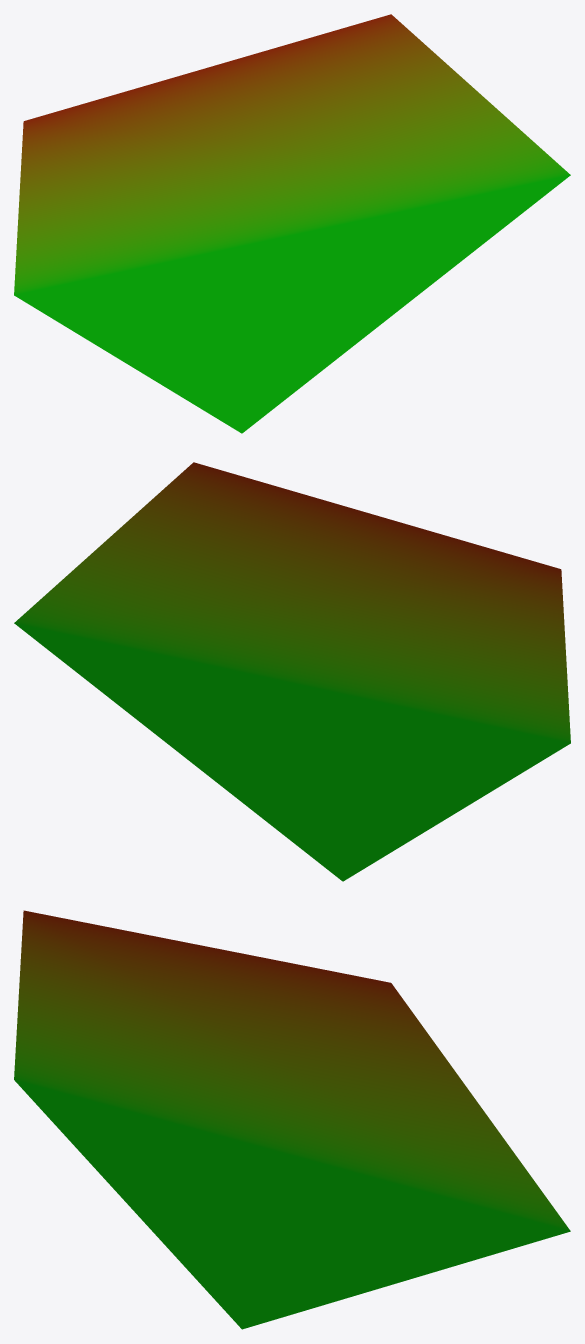
The model's file is Aloe Vera_LOD4_Var12_ve4tbbrha.fbx.
3 views of the same model, one above another, from view 1: azimuth 30°, elevation 25°; view 2: azimuth 150°, elevation 25°; view 3: azimuth 330°, elevation 25° (orthographic).
Parts seen in each view (by area): view 1: _632s_Var12_LOD4; view 2: _632s_Var12_LOD4; view 3: _632s_Var12_LOD4.
Boxes of the visible parts, left/top/right/bottom form: _632s_Var12_LOD4: left=14, top=14, right=570, bottom=433; _632s_Var12_LOD4: left=14, top=462, right=570, bottom=881; _632s_Var12_LOD4: left=14, top=910, right=570, bottom=1329.
Size of the model in its own units: 48 by 31.55 by 6.24e-06.
